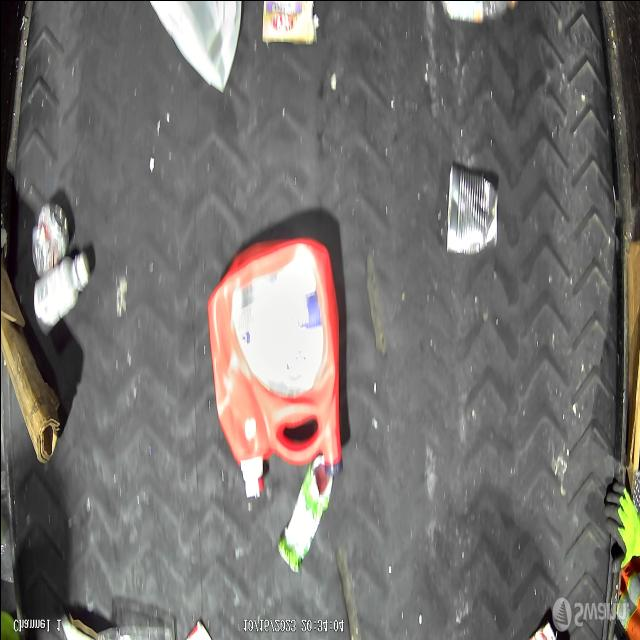can: (439, 158, 495, 260), (30, 192, 72, 270), (262, 0, 323, 50)
milk_jug: (148, 0, 246, 87)
non_white_jug: (205, 225, 348, 504)
plastic_bottle: (435, 0, 514, 32)
